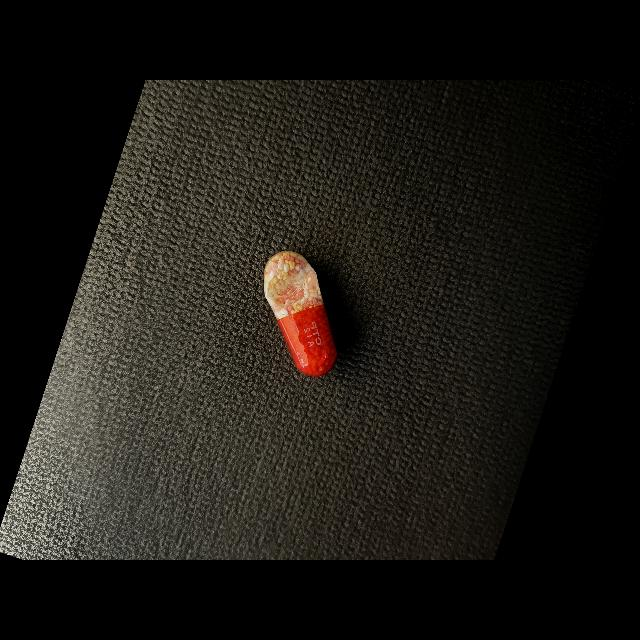Defective Capsule: (264, 251, 337, 376)
